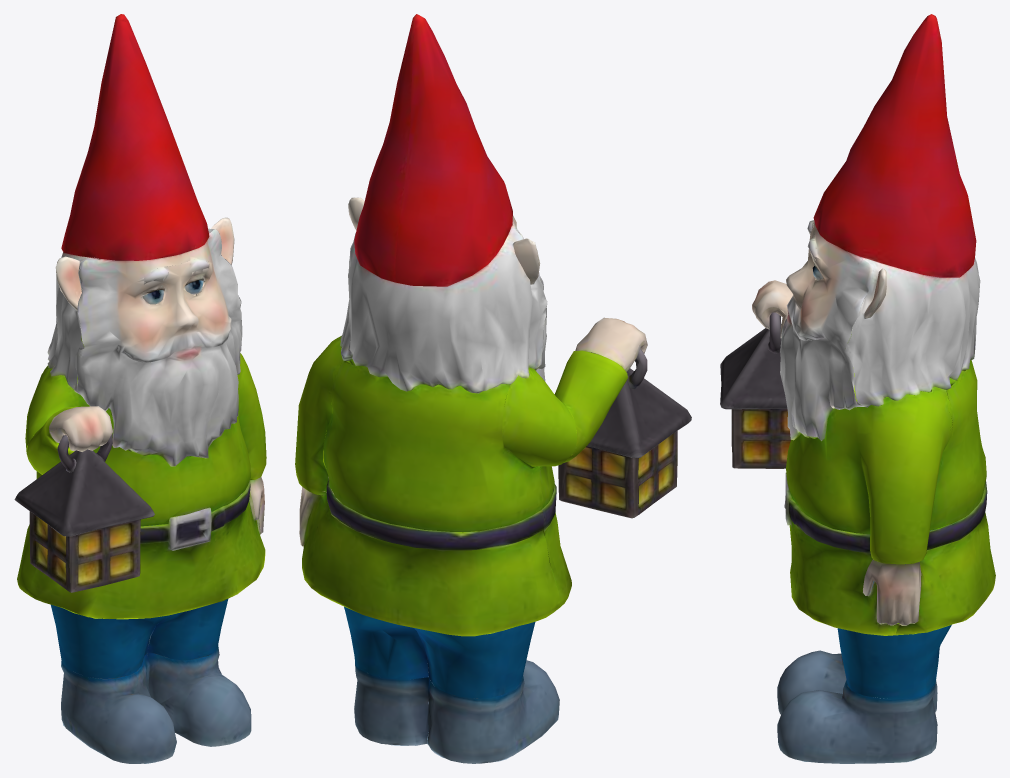
The model's file is gnome.glb.
The picture shows the model from 3 angles, left to right: view 1: azimuth 30°, elevation 25°; view 2: azimuth 150°, elevation 25°; view 3: azimuth 270°, elevation 25°; orthographic projection. The views are drawn at different scales.
Visible parts, largest first — view 1: garden_gnome; view 2: garden_gnome; view 3: garden_gnome.
Boxes of the visible parts, bbox=[...] form: garden_gnome: bbox=[14, 14, 266, 763]; garden_gnome: bbox=[295, 14, 691, 763]; garden_gnome: bbox=[720, 14, 995, 763].
Bounding box in the file's own units: 0.2576 × 0.5994 × 0.2101.
1 material, 1 textured.
